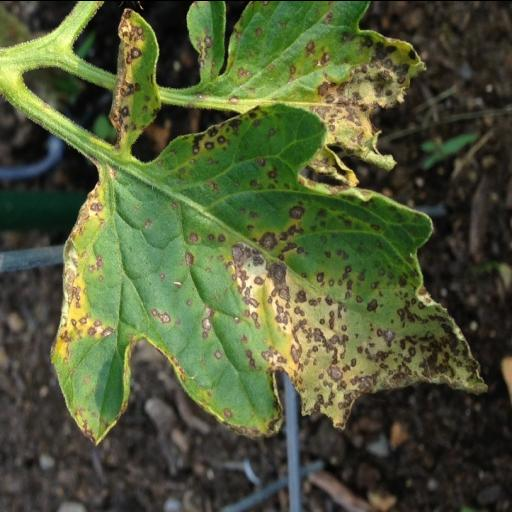Septoria: (40, 6, 502, 454), (180, 0, 436, 192)
